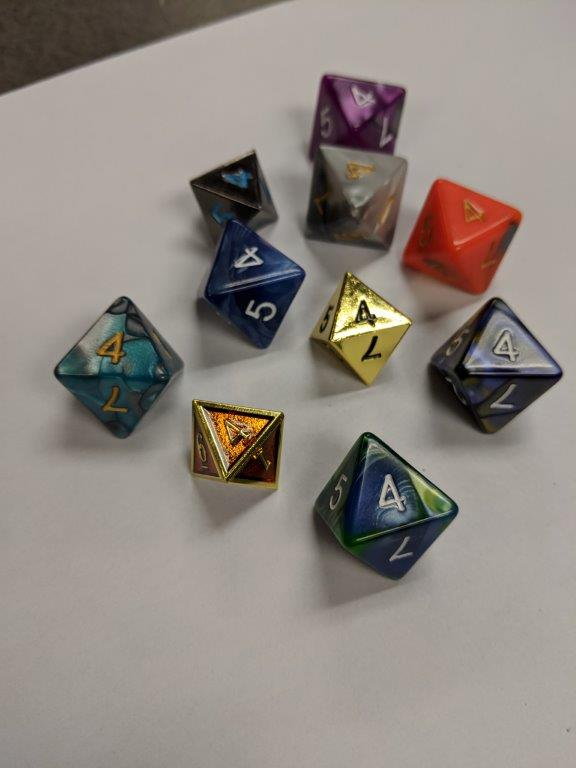d8-4: (310, 427, 458, 586), (425, 295, 564, 439), (50, 295, 182, 440), (397, 175, 522, 297), (192, 217, 302, 352), (309, 269, 412, 386), (299, 141, 407, 249), (190, 395, 286, 495), (302, 73, 407, 162), (188, 149, 282, 234)
